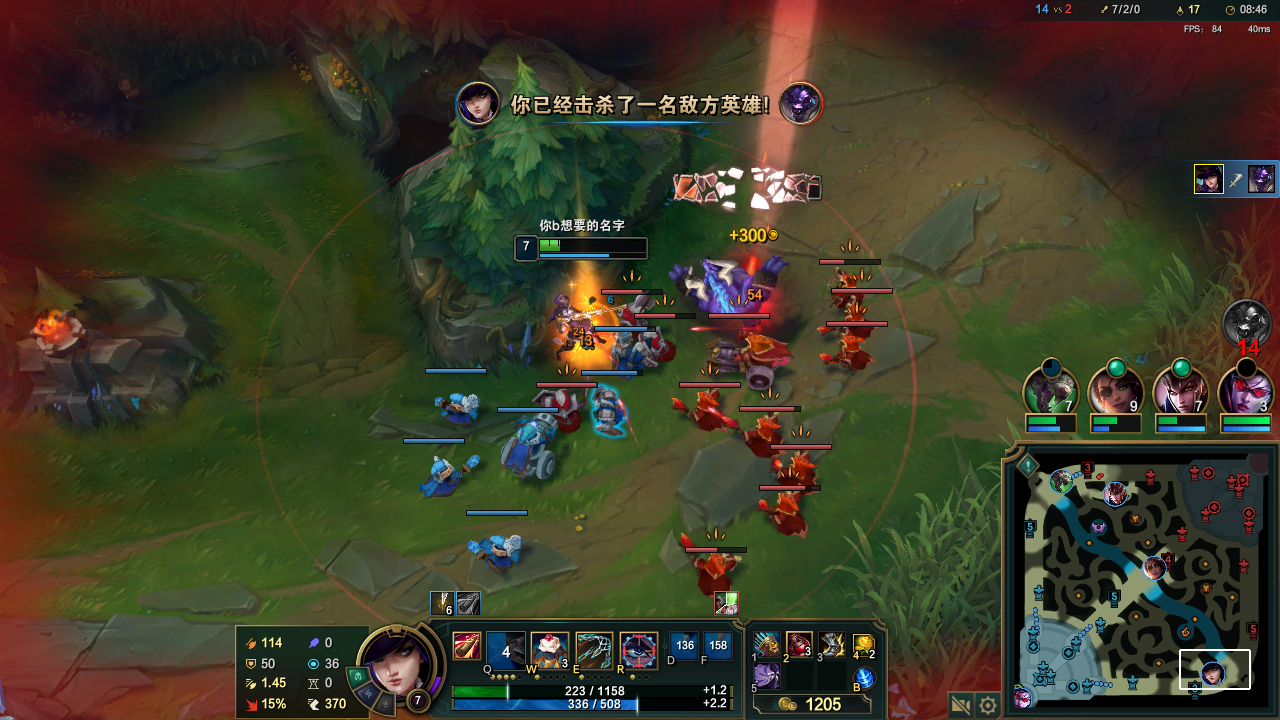DFXB: (701, 328, 795, 387), (832, 332, 883, 379), (681, 552, 743, 587), (687, 390, 731, 436), (770, 492, 809, 539), (785, 449, 826, 491), (646, 324, 688, 364), (539, 387, 582, 425), (747, 415, 787, 451), (838, 304, 872, 341), (615, 298, 648, 326), (830, 271, 856, 302)
WFXB: (496, 419, 555, 480), (469, 523, 525, 568), (415, 455, 471, 496), (438, 386, 485, 430), (590, 386, 625, 427), (613, 345, 652, 377)
